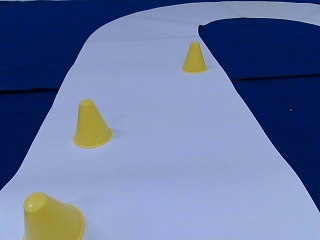cone: (21, 192, 82, 238), (72, 100, 112, 146), (182, 42, 206, 72)
